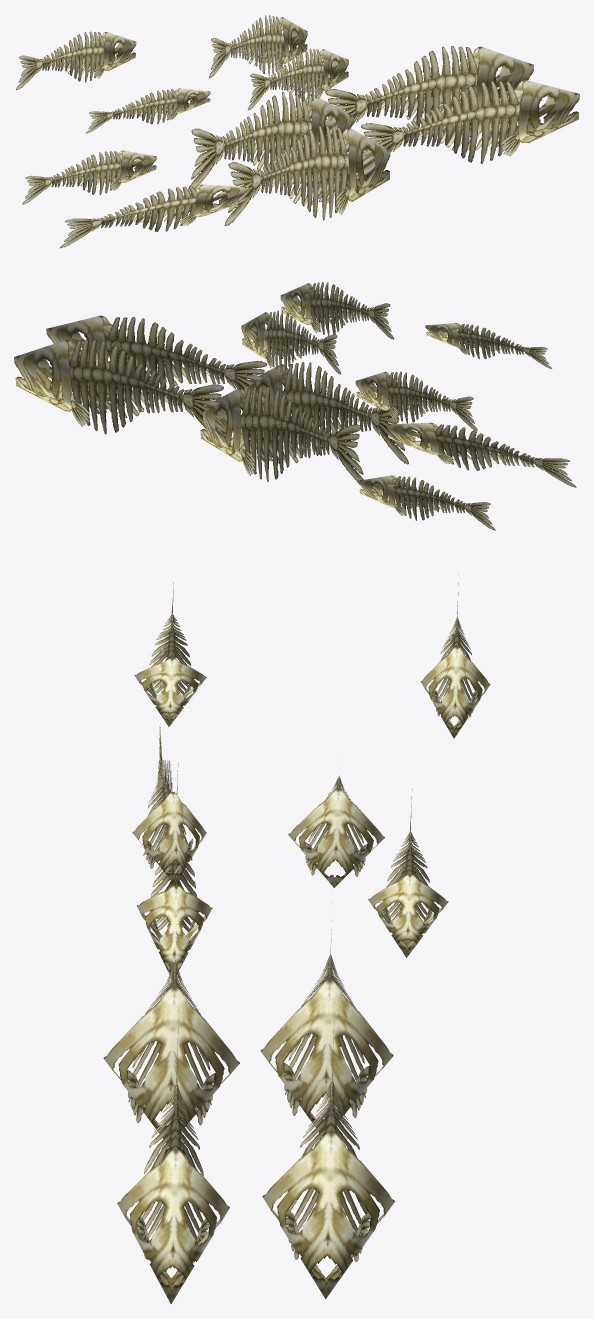
The model's file is fish_undead_01.obj.
3 renders of one model, top to bottom at view 1: azimuth 30°, elevation 25°; view 2: azimuth 150°, elevation 25°; view 3: azimuth 270°, elevation 25°, orthographic. The views are drawn at different scales.
Visible parts, largest first — view 1: FISH_UNDEAD_010; view 2: FISH_UNDEAD_010; view 3: FISH_UNDEAD_010.
Part boxes in pixels (x1,y1,x2,y2): FISH_UNDEAD_010: (16,15,579,248); FISH_UNDEAD_010: (14,282,576,530); FISH_UNDEAD_010: (103,573,490,1303).
Bounding box in the file's own units: 1.65 × 0.524 × 0.5302.
Materials: 1 (1 with a texture image).
